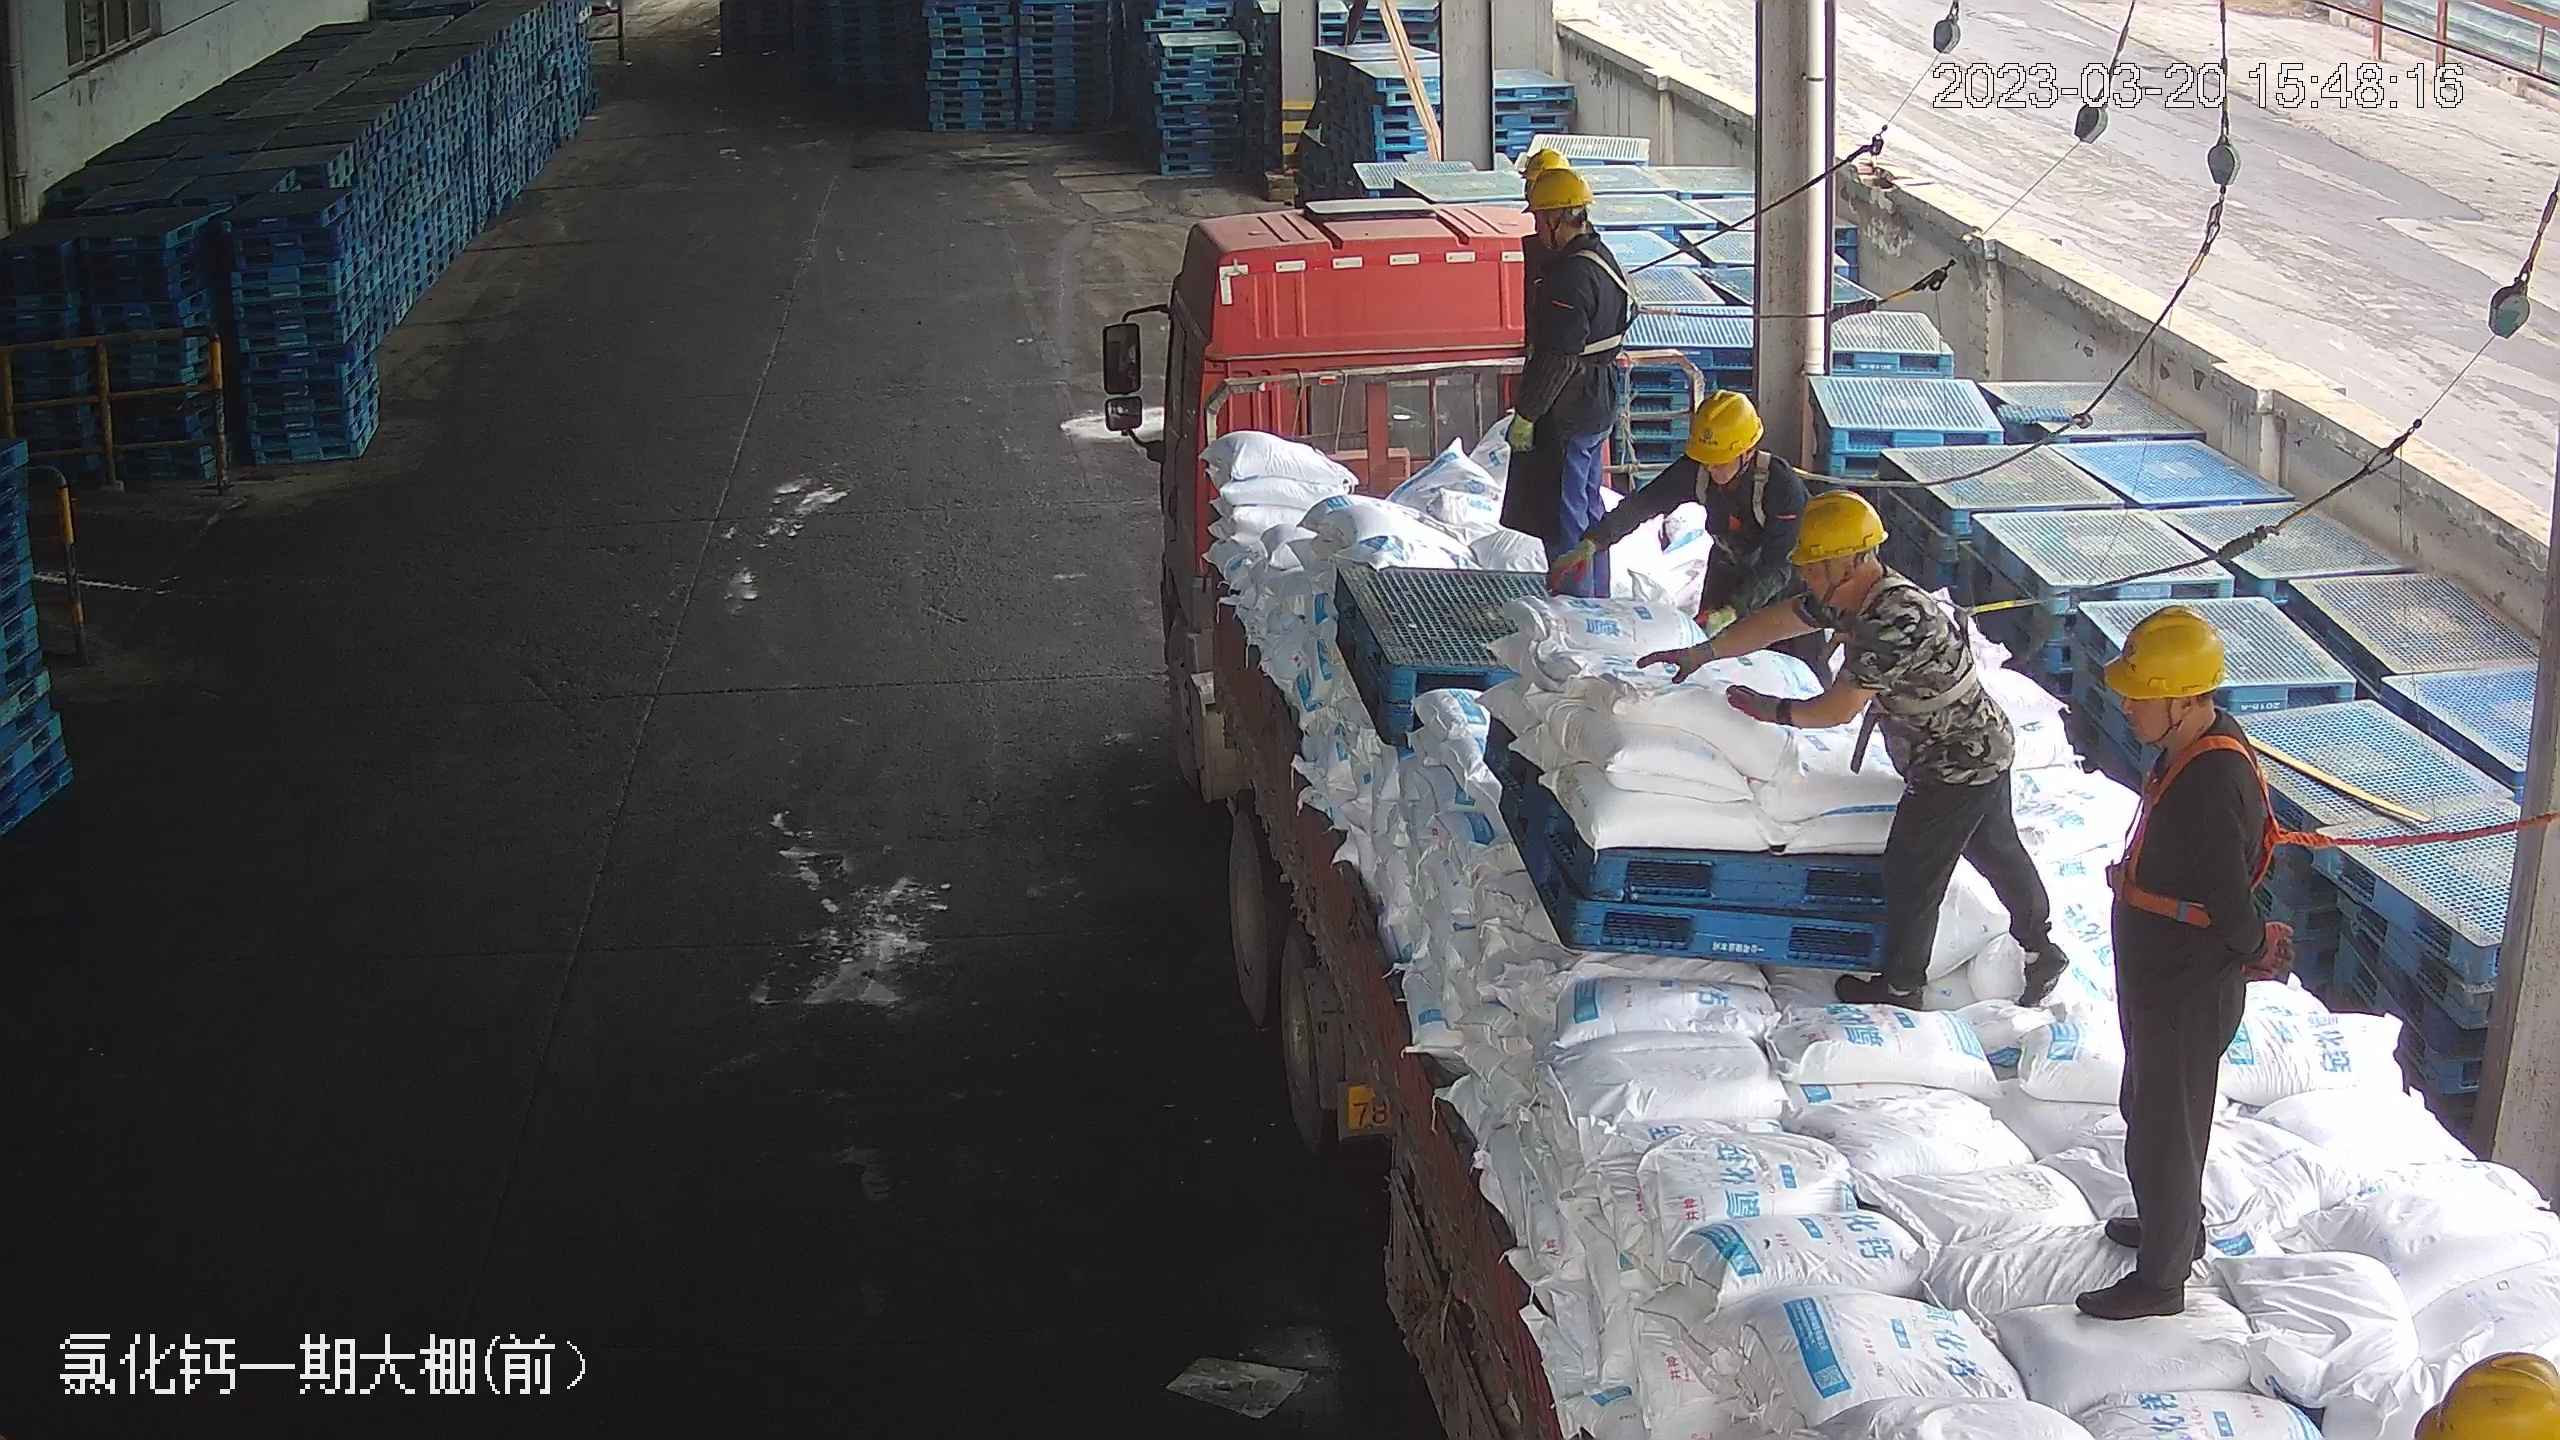belt: (2118, 734, 2296, 918), (1857, 571, 2002, 714), (1552, 237, 1651, 353), (1687, 435, 1802, 528)
head: (2095, 600, 2272, 839), (1781, 488, 1958, 661), (1665, 384, 1808, 523), (1511, 150, 1629, 299)
helmet: (2092, 602, 2228, 702), (2424, 1347, 2560, 1438), (1786, 487, 1890, 567), (1683, 385, 1761, 469), (1516, 150, 1591, 207)
people: (1635, 490, 2066, 1030), (2084, 609, 2279, 1330), (1562, 380, 1819, 649), (1496, 153, 1633, 596)
truck: (1103, 183, 2534, 1439)
